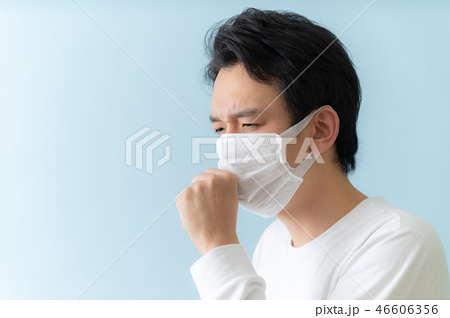mask: (209, 130, 306, 224)
